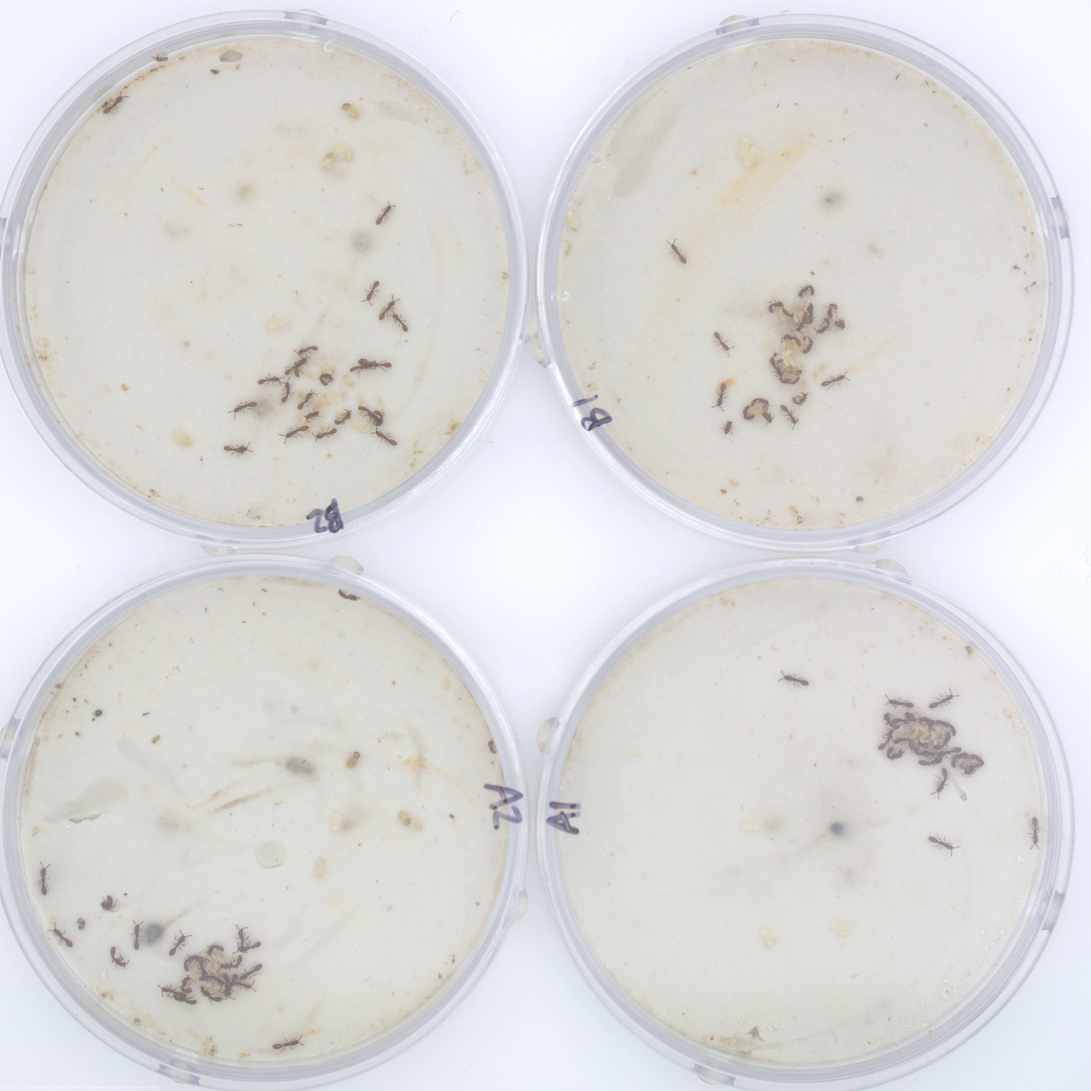brood: (765, 295, 815, 380), (884, 709, 955, 765), (184, 948, 234, 999), (299, 387, 346, 413), (291, 412, 326, 439), (356, 390, 383, 424), (303, 358, 336, 379), (955, 752, 980, 778), (349, 422, 378, 436), (339, 374, 359, 387)
